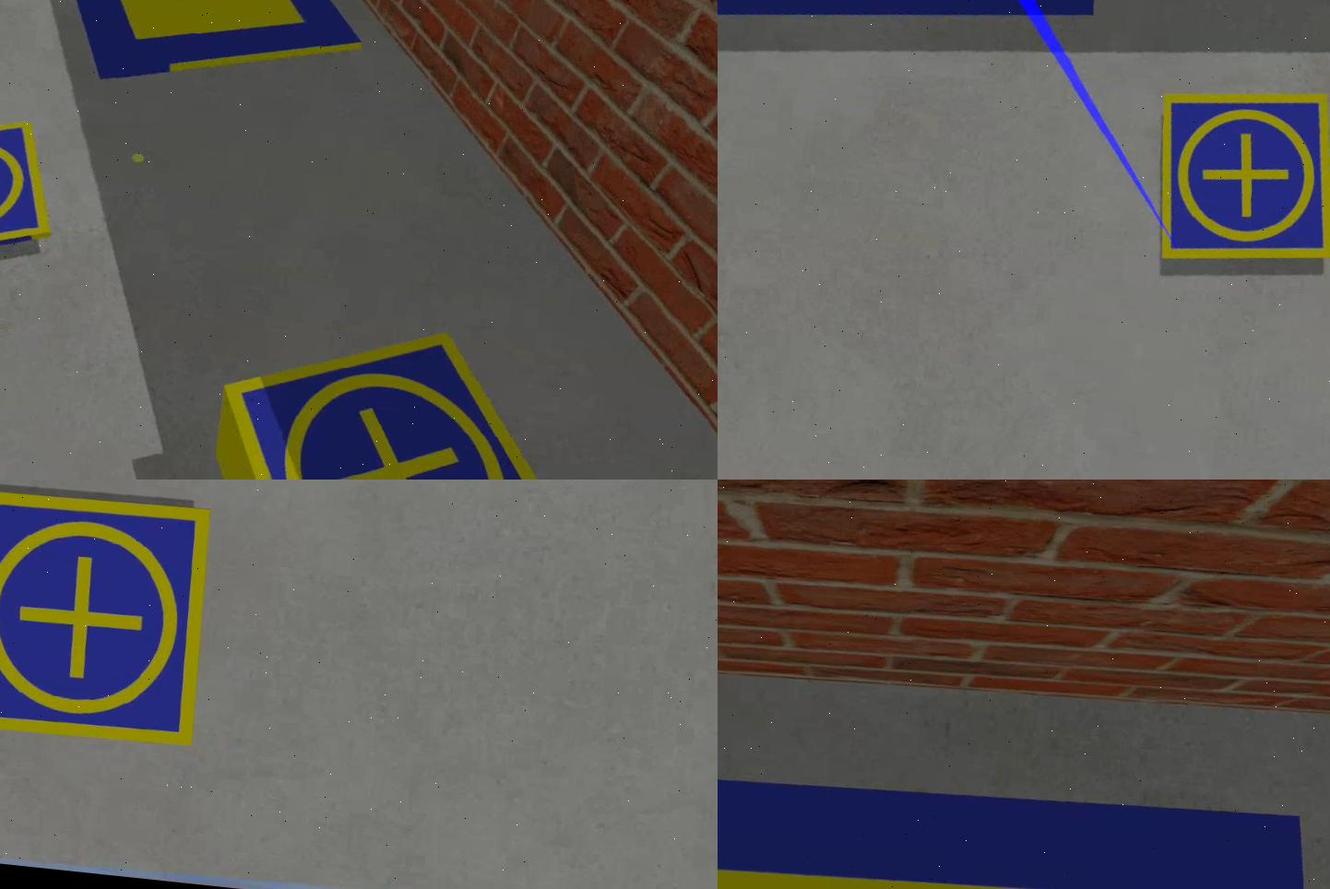large_base: (718, 734, 1330, 889), (30, 1, 378, 103)
small_base: (199, 306, 617, 480), (1, 485, 216, 753), (1142, 72, 1330, 284), (1, 110, 65, 291)
